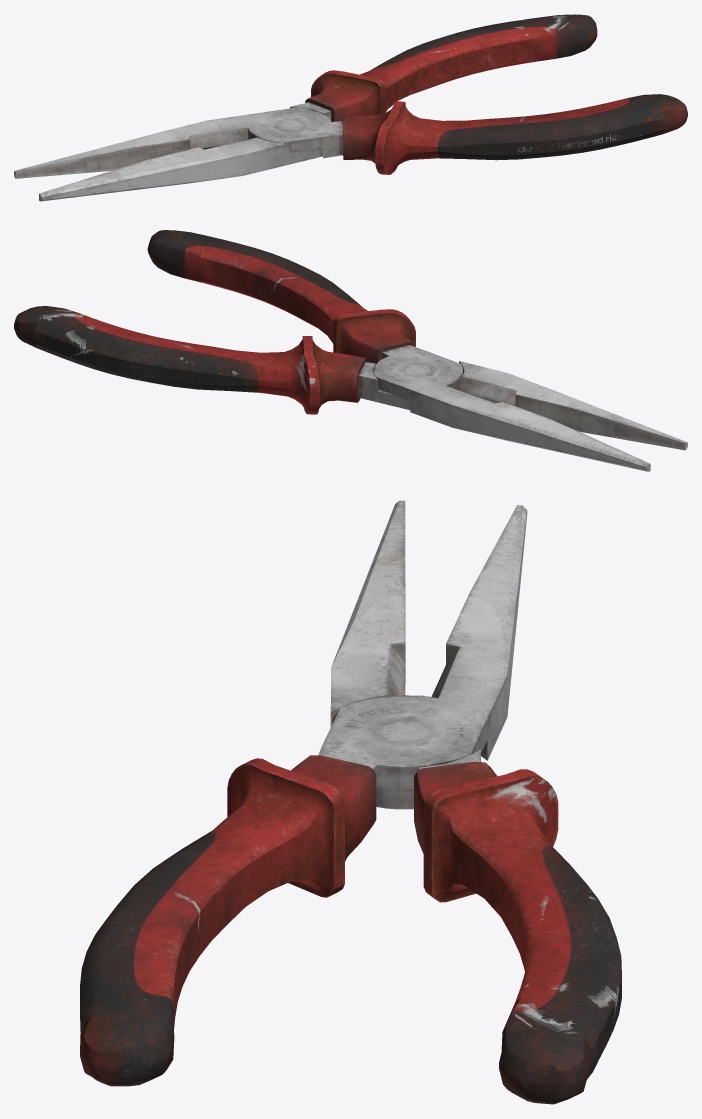
3 views of the same model, one above another, from view 1: azimuth 30°, elevation 25°; view 2: azimuth 150°, elevation 25°; view 3: azimuth 270°, elevation 25° (orthographic). The views are drawn at different scales.
Visible parts, largest first — view 1: Handle2_low, Handle1_low, Metal1_low, Metal2_low; view 2: Handle1_low, Handle2_low, Metal1_low, Metal2_low; view 3: Handle2_low, Handle1_low, Metal1_low, Metal2_low.
Boxes of the visible parts, left/top/right/bottom form: Handle2_low: left=342, top=94, right=687, bottom=174; Handle1_low: left=305, top=14, right=597, bottom=121; Metal1_low: left=14, top=107, right=343, bottom=178; Metal2_low: left=39, top=102, right=331, bottom=201; Handle1_low: left=14, top=306, right=366, bottom=414; Handle2_low: left=147, top=230, right=415, bottom=364; Metal1_low: left=373, top=345, right=650, bottom=471; Metal2_low: left=358, top=361, right=687, bottom=450; Handle2_low: left=80, top=755, right=376, bottom=1086; Handle1_low: left=414, top=761, right=621, bottom=1104; Metal1_low: left=318, top=505, right=527, bottom=788; Metal2_low: left=330, top=500, right=480, bottom=809.
Bounding box in the file's own units: 127 × 10.92 × 50.54.
Materials: 1 (1 with a texture image).
